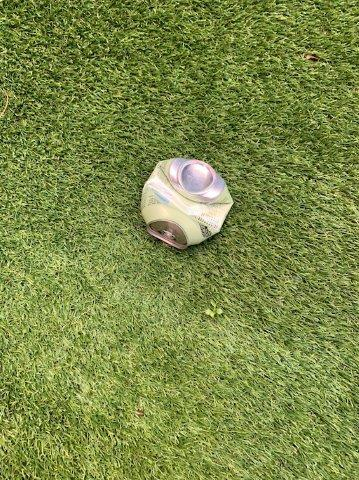kaleng: (141, 158, 231, 248)
